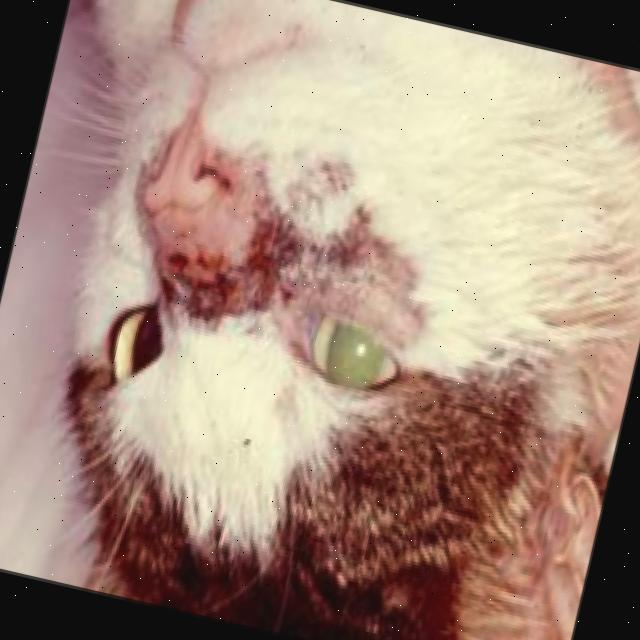cat-ringworm: (160, 244, 270, 328), (252, 215, 366, 280)
